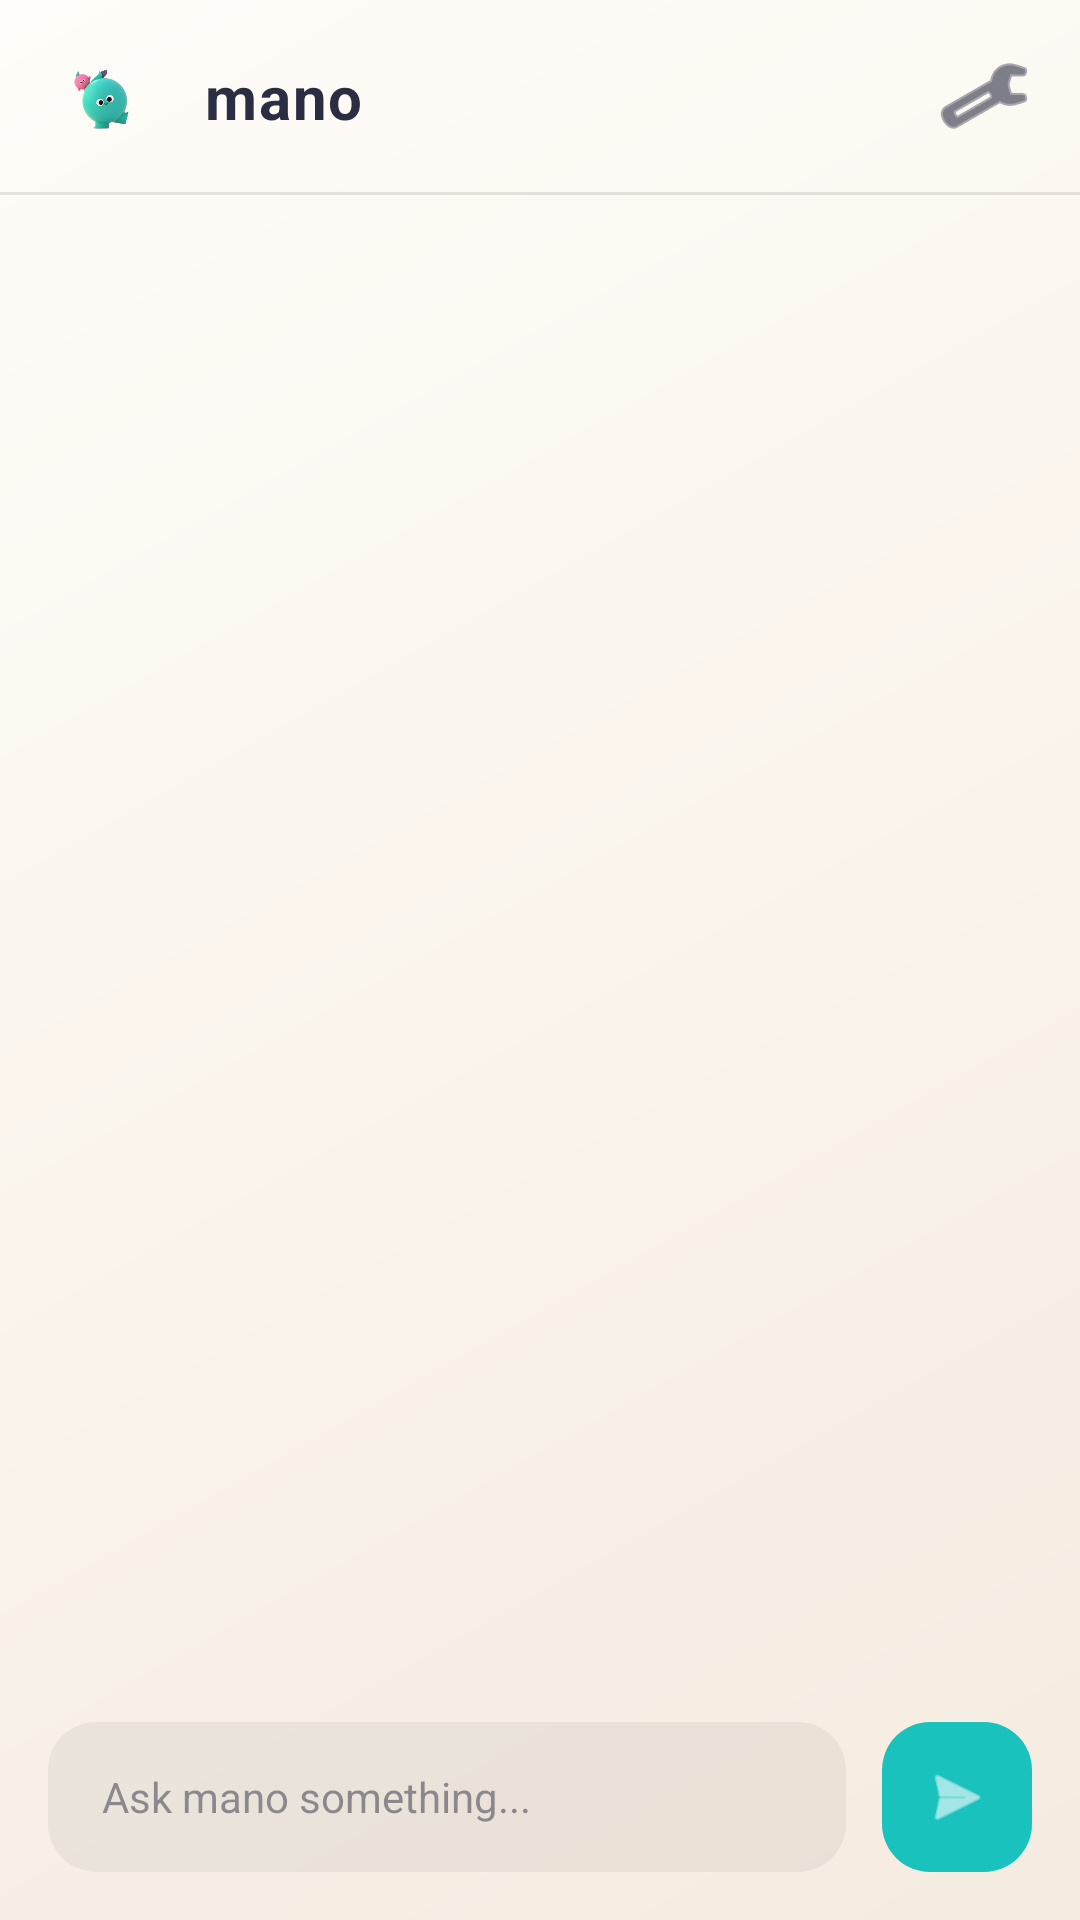

Screen size 1080 x 1920. Icon name, then its box in pixels as (x1, y1, x2, y2):
Send Message: (882, 1722, 1032, 1872)
Settings: (941, 63, 1027, 129)
